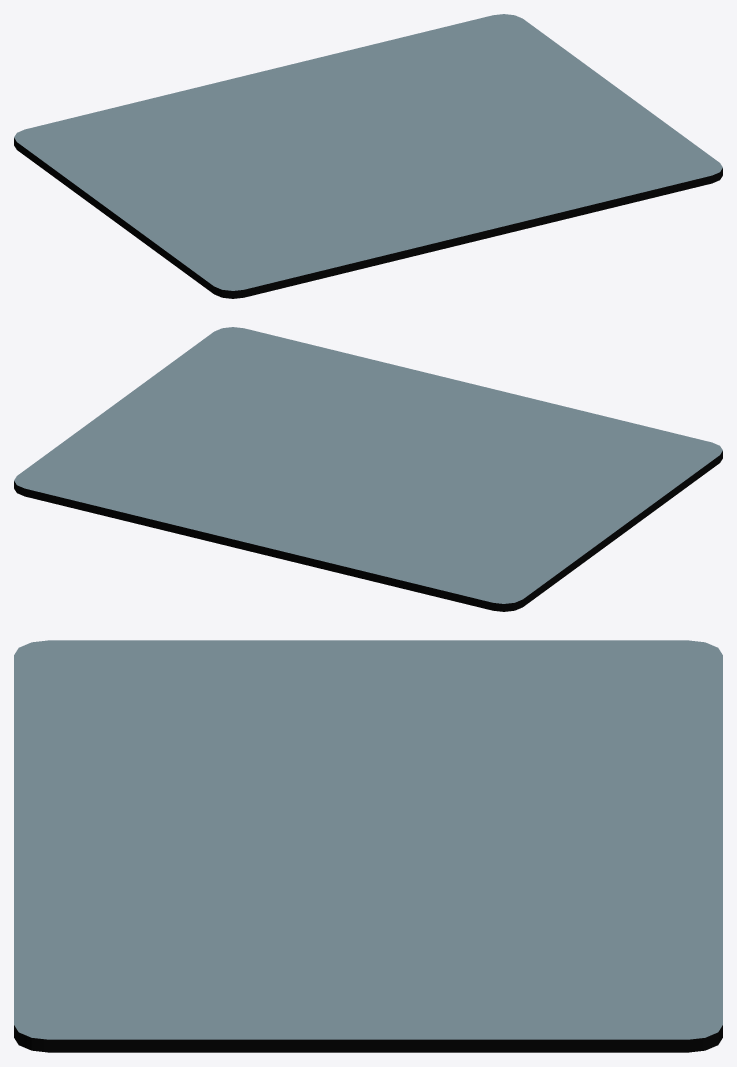
File: MousePad.fbx
The picture shows the model from 3 angles, top to bottom: view 1: azimuth 30°, elevation 25°; view 2: azimuth 150°, elevation 25°; view 3: azimuth 270°, elevation 25°; orthographic projection. The views are drawn at different scales.
Visible parts, largest first — view 1: pCube1; view 2: pCube1; view 3: pCube1.
Boxes of the visible parts, x1,y1,x2,y2 form: pCube1: (14, 14, 722, 298); pCube1: (14, 327, 722, 611); pCube1: (14, 640, 722, 1052).
Size of the model in its own units: 10 by 0.15 by 7.5.
